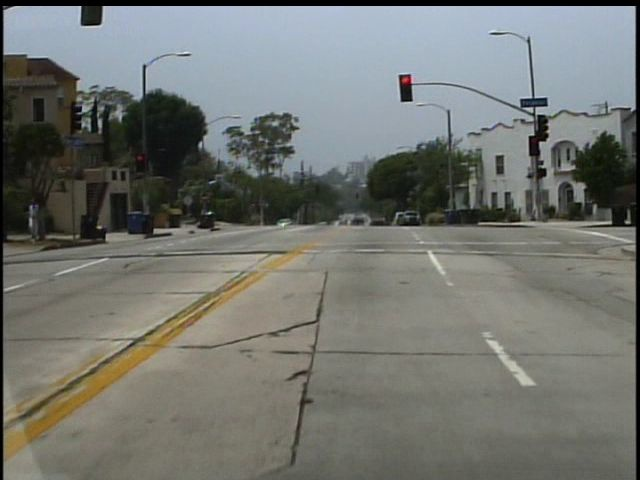person: (31, 198, 45, 242)
